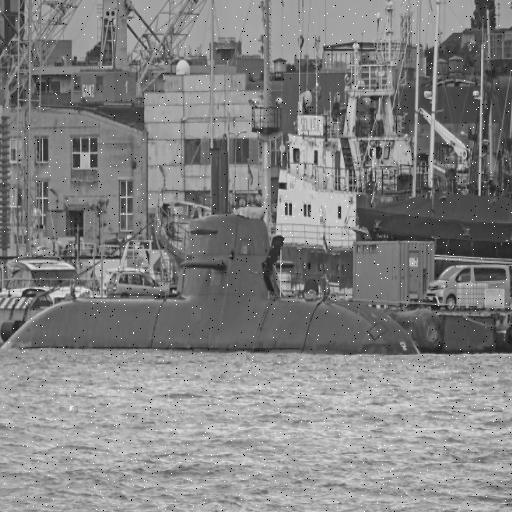submarine: (1, 137, 423, 355)
